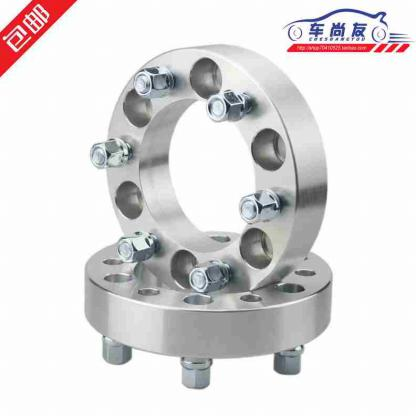FOD: (100, 38, 332, 296), (81, 226, 339, 365)
